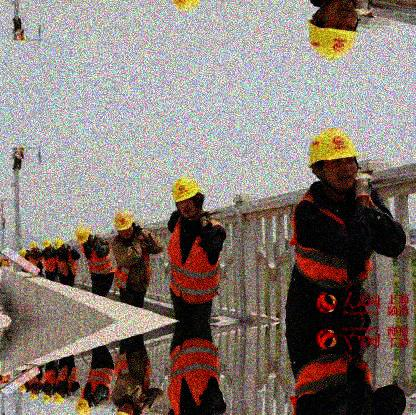helmet: (307, 129, 358, 191), (308, 1, 360, 59), (171, 176, 202, 219), (115, 210, 135, 239), (75, 224, 94, 245), (76, 397, 93, 413), (53, 390, 64, 404), (54, 239, 65, 250), (19, 247, 28, 258), (42, 241, 52, 250), (43, 392, 51, 400), (30, 243, 37, 252), (31, 392, 37, 399)
